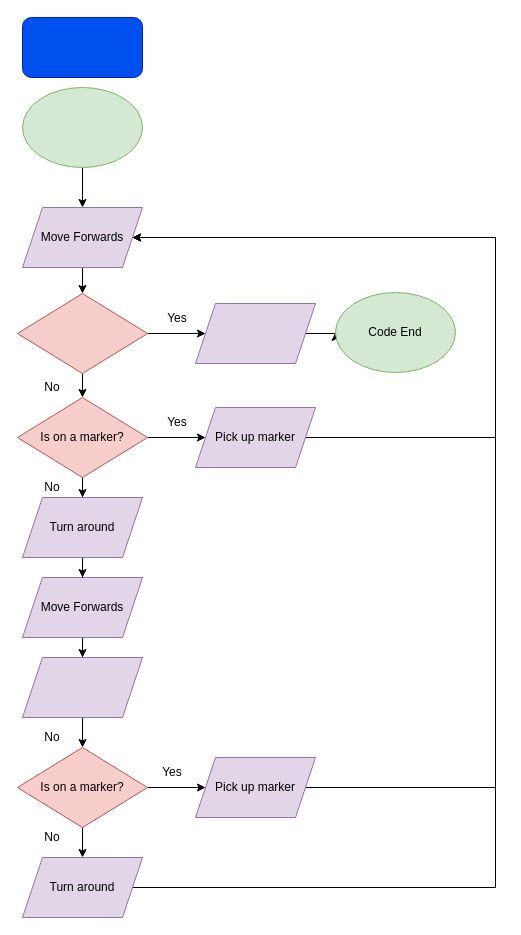
The diagram is 521 pixels wide and 935 high, and some of its shapes have lost their labels. The centre of each missing label's shape, as x and y in pixels:
"Activity 7" goes at point 82,47.
"Code Start" goes at point 82,127.
"Drop all markers" goes at point 255,333.
"Has reached final wall?" goes at point 82,333.
"Turn left" goes at point 82,687.
